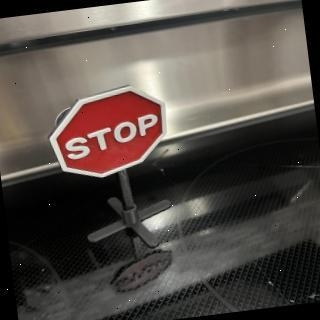sign_stop: (44, 80, 175, 185)
